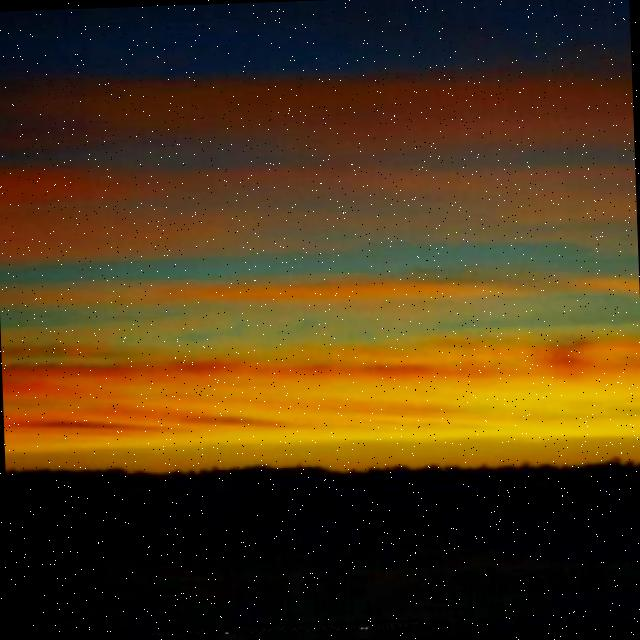As: (1, 37, 640, 451)
